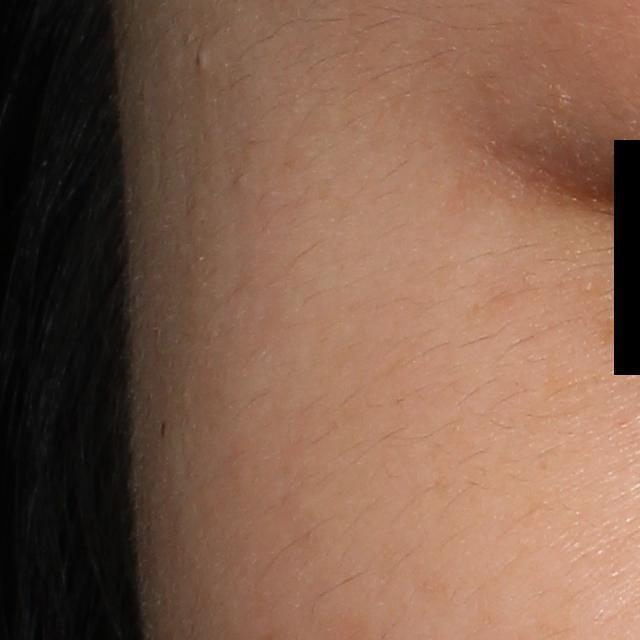comedo: (191, 45, 211, 75)
